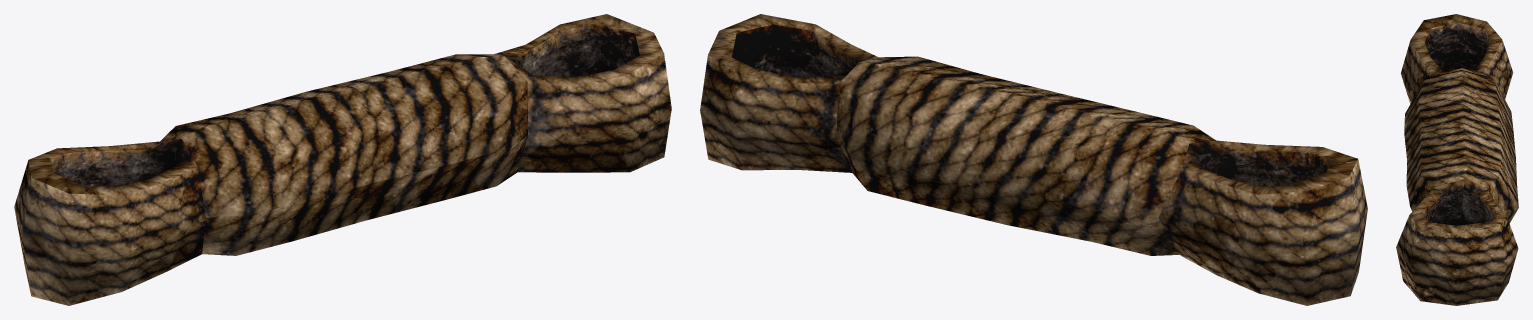
File: MediumTank_Gear_RopeCoil.FBX
3 views of the same model, side by side, from view 1: azimuth 30°, elevation 25°; view 2: azimuth 150°, elevation 25°; view 3: azimuth 270°, elevation 25° (orthographic). The views are drawn at different scales.
Parts seen in each view (by area): view 1: MediumTank_Gear_RopeCoil; view 2: MediumTank_Gear_RopeCoil; view 3: MediumTank_Gear_RopeCoil.
Boxes of the visible parts, bbox=[...] form: MediumTank_Gear_RopeCoil: bbox=[14, 14, 671, 305]; MediumTank_Gear_RopeCoil: bbox=[700, 14, 1367, 305]; MediumTank_Gear_RopeCoil: bbox=[1396, 14, 1518, 305].
Size of the model in its own units: 0.939 by 0.1725 by 0.2193.
